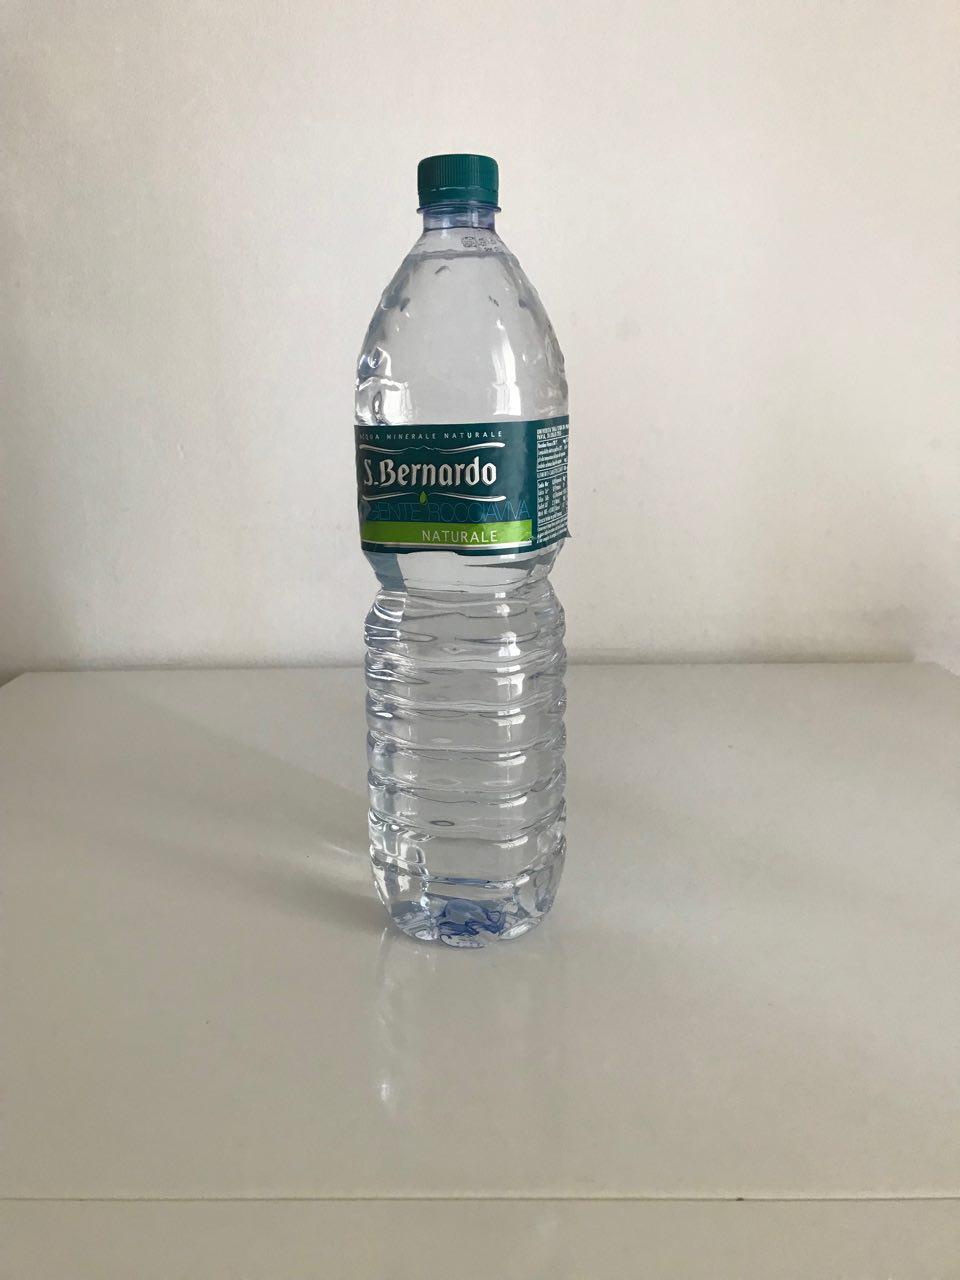san_bernardo: (353, 152, 573, 953)
